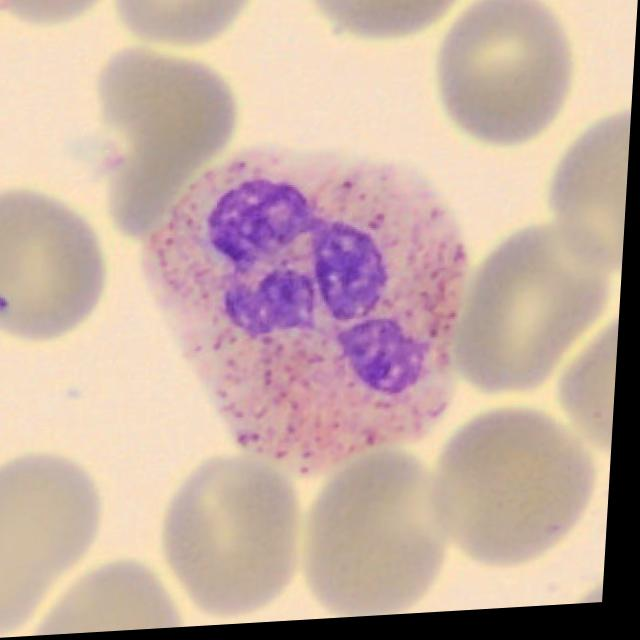Neutrofilo segmentado: (146, 151, 472, 479)
